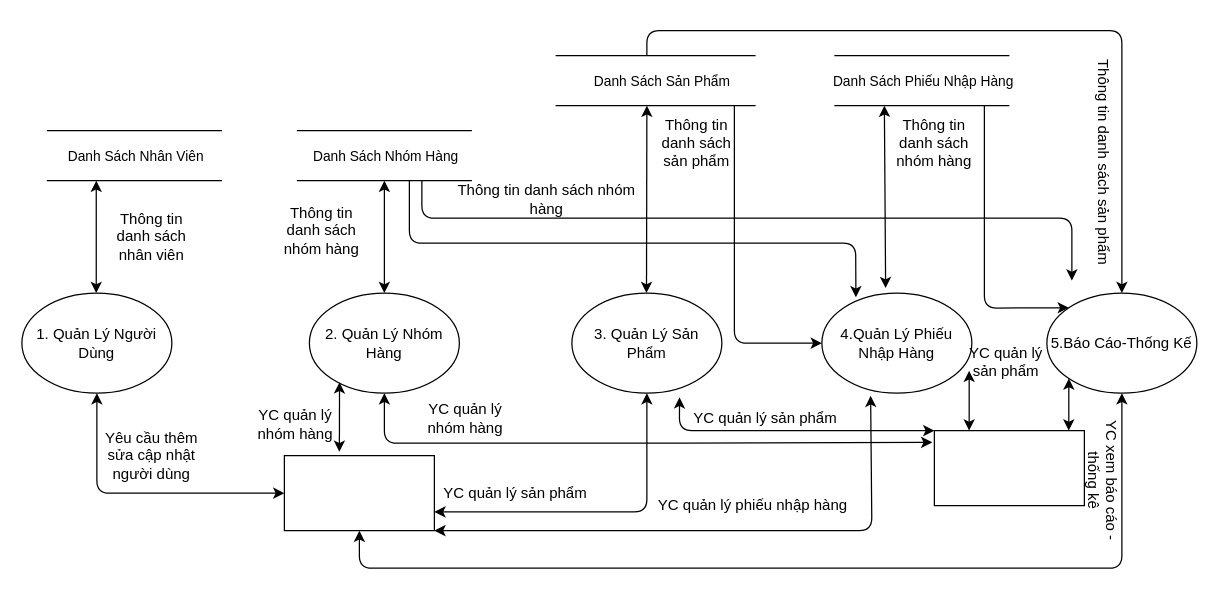
This 1219x601 diagram has some shape labels left out. Each missing label, with the centre of its shape:
Nhân Viên: (1008,467)
Quản Lý: (358,492)
